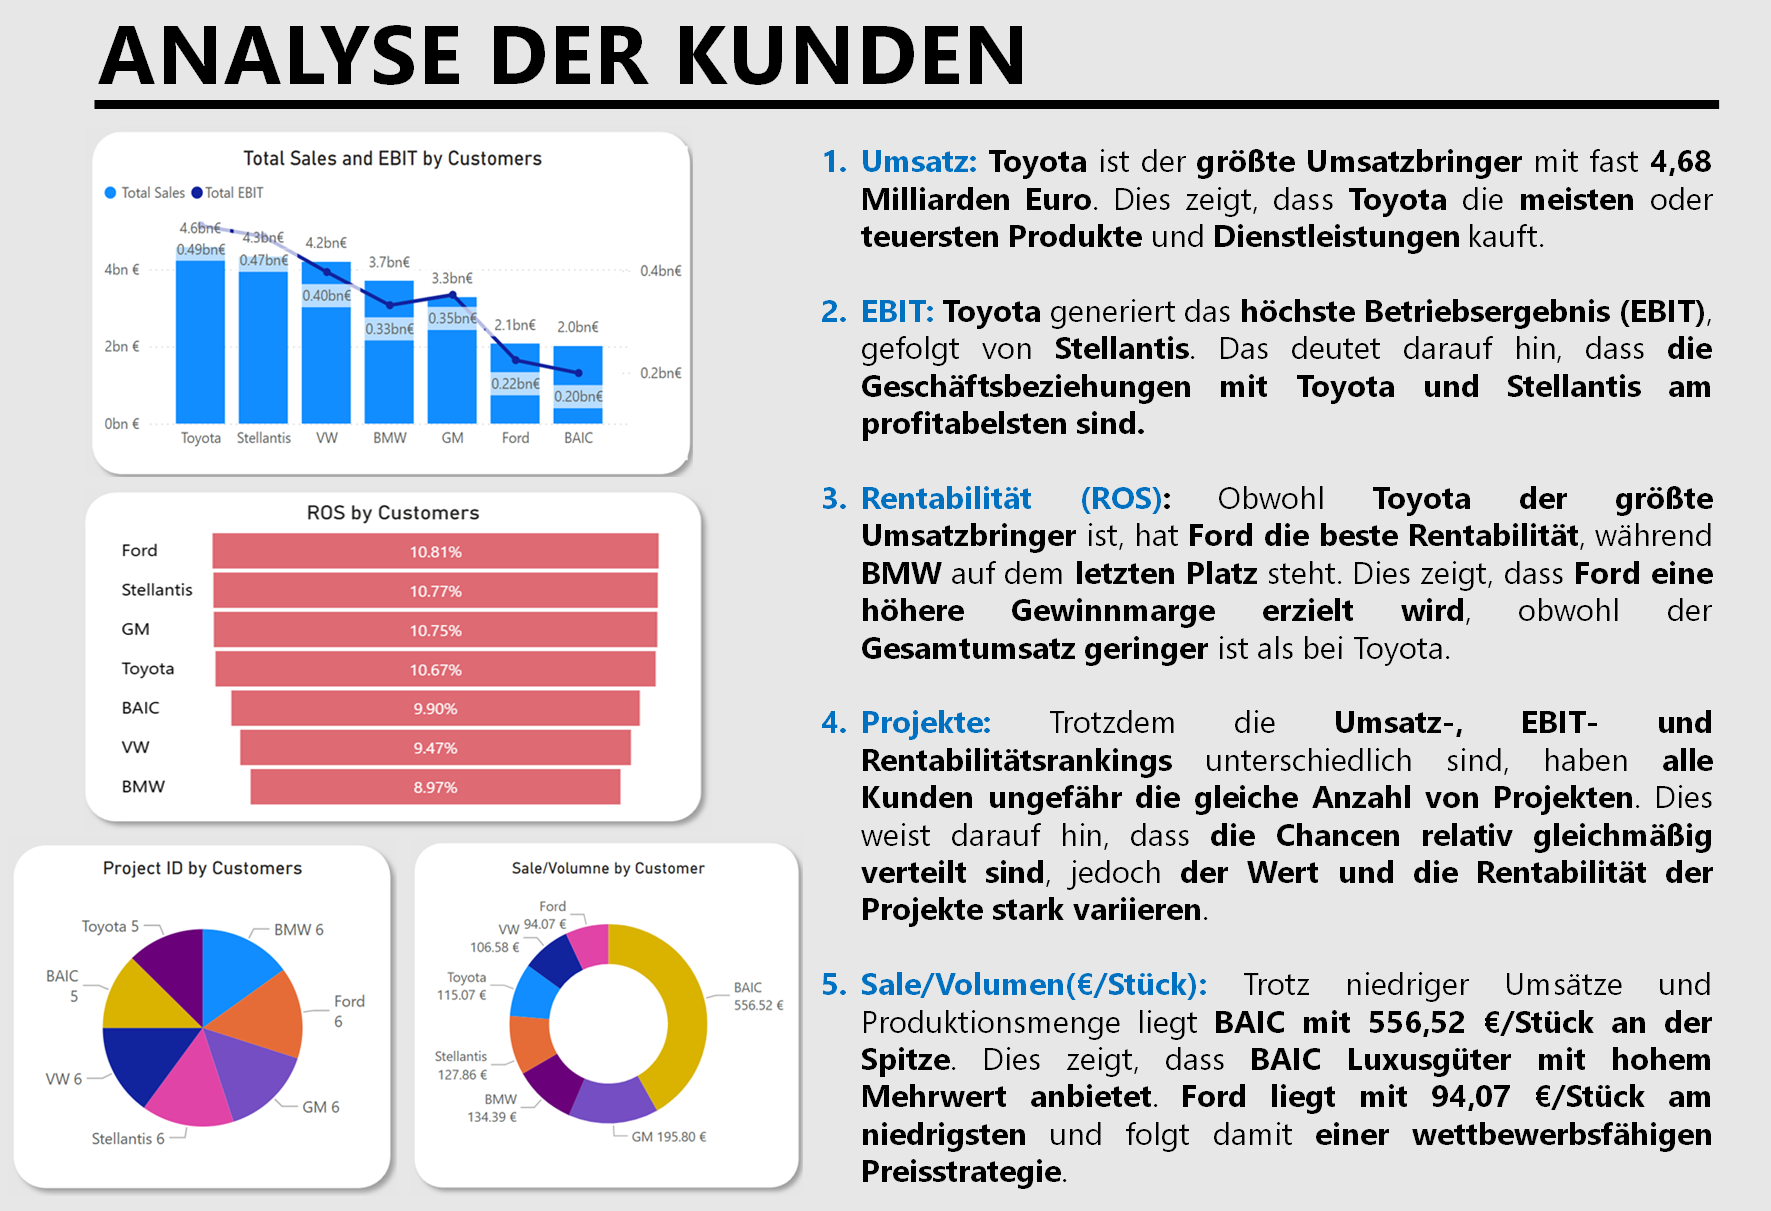

The page's visual inventory and layout, read from the dashboard file:
{"tool":"powerbi","page":{"name":"Customers","canvas":[1280,720],"ordinal":3},"visuals":[{"type":"shape","box":[216,416,328,304],"z":0},{"type":"lineStackedColumnComboChart","title":"Total Sales and EBIT by Customers","fields":{"Category":["Dim_Kunden.Customer"],"Y2":["Sum(Fct_Value.Value_EBIT)"],"Y":["Sum(Fct_Value.Value_Sales)"]},"box":[232,136,512,264],"z":1000,"group":"g1"},{"type":"funnel","title":"ROS by Customers","fields":{"Category":["Dim_Kunden.Customer"],"Y":["Fct_Value.ROS"]},"box":[776,136,480.1,267.4],"z":1000,"group":"g2"},{"type":"shape","box":[544,416,288,304],"z":1000},{"type":"donutChart","title":"Total Sales / Volume by Customer","fields":{"Category":["Dim_Kunden.Customer"],"Y":["Sum(Fct_Value.Value_Vol)"]},"box":[560,432,256,272],"z":1000,"group":"g3"},{"type":"tableEx","title":"Ranking Sales by Customers","fields":{"Values":["Dim_Kunden.Customer","Sum(Fct_Value.Value_Sales)","Dim_Kunden.Customer_Rank"]},"box":[864,432,392,264],"z":1000,"group":"g4"},{"type":"shape","box":[832,416,448,304],"z":2000},{"type":"pieChart","title":"Projects by Customer","fields":{"Category":["Dim_Kunden.Customer"],"Y":["CountNonNull(Dim_Project.ProjectID)"]},"box":[232,432,296,272],"z":3000},{"type":"shape","box":[760,120,520,296],"z":4000},{"type":"shape","box":[216,120,544,296],"z":5000},{"type":"shape","box":[0,0,216,720],"z":6000},{"type":"shape","box":[216,0,1064,120],"z":7000},{"type":"card","fields":{"Values":["Count(Dim_Kunden.Customer)"]},"box":[232,8,96,96],"z":8000},{"type":"card","fields":{"Values":["Sum(Fct_Value.Value_Sales)"]},"box":[328,8,184,96],"z":9000},{"type":"card","fields":{"Values":["Sum(Fct_Value.Value_EBIT)"]},"box":[512,8,168,104],"z":10000},{"type":"card","fields":{"Values":["Sum(Fct_Value.Value_Vol)"]},"box":[680,8,184,96],"z":11000},{"type":"slicer","fields":{"Values":["Dim_Project.Region"]},"box":[16,456,184,120],"z":12000},{"type":"slicer","title":"Choose the filter:","fields":{"Values":["Dim_Kunden.Customer"]},"box":[16,24,184,240],"z":13000},{"type":"slicer","fields":{"Values":["Dim_Kunden.HeadquarterLocation"]},"box":[16,272,176,184],"z":14000},{"type":"card","fields":{"Values":["Fct_Value.ROS"]},"box":[864,8,128,96],"z":15000},{"type":"card","fields":{"Values":["CountNonNull(Dim_Project.ProjectID)"]},"box":[1160,8,112,96],"z":16000},{"type":"card","fields":{"Values":["Sum(Fct_Value.Value_Mat)"]},"box":[992,8,176,96],"z":17000},{"type":"group","id":"g1","title":"Group 1","box":[232,136,512,264],"z":18000},{"type":"group","id":"g2","title":"Group 2","box":[776,136,480,264],"z":19000},{"type":"group","id":"g3","title":"Group 4","box":[560,432,256,272],"z":20000},{"type":"group","id":"g4","title":"Group 5","box":[864,432,392,264],"z":21000},{"type":"actionButton","box":[16,579,176,48],"z":22000},{"type":"actionButton","box":[112,619,80,64],"z":23000},{"type":"actionButton","box":[16,619,80,64],"z":24000}]}

Visuals, with their boxes on the page's 1280x720 design canvas (x1, y1, x2, y2). These are canvas units, not pixel positions in the 1771x1211 screenshot, which may show the page scaled, cropped or inside an application window:
shape: 216/416/544/720
"Total Sales and EBIT by Customers" lineStackedColumnComboChart: 232/136/744/400
"ROS by Customers" funnel: 776/136/1256/403
shape: 544/416/832/720
"Total Sales / Volume by Customer" donutChart: 560/432/816/704
"Ranking Sales by Customers" tableEx: 864/432/1256/696
shape: 832/416/1280/720
"Projects by Customer" pieChart: 232/432/528/704
shape: 760/120/1280/416
shape: 216/120/760/416
shape: 0/0/216/720
shape: 216/0/1280/120
card - Count(Dim_Kunden.Customer): 232/8/328/104
card - Sum(Fct_Value.Value_Sales): 328/8/512/104
card - Sum(Fct_Value.Value_EBIT): 512/8/680/112
card - Sum(Fct_Value.Value_Vol): 680/8/864/104
slicer - Dim_Project.Region: 16/456/200/576
"Choose the filter:" slicer: 16/24/200/264
slicer - Dim_Kunden.HeadquarterLocation: 16/272/192/456
card - Fct_Value.ROS: 864/8/992/104
card - CountNonNull(Dim_Project.ProjectID): 1160/8/1272/104
card - Sum(Fct_Value.Value_Mat): 992/8/1168/104
"Group 1" group: 232/136/744/400
"Group 2" group: 776/136/1256/400
"Group 4" group: 560/432/816/704
"Group 5" group: 864/432/1256/696
actionButton: 16/579/192/627
actionButton: 112/619/192/683
actionButton: 16/619/96/683
